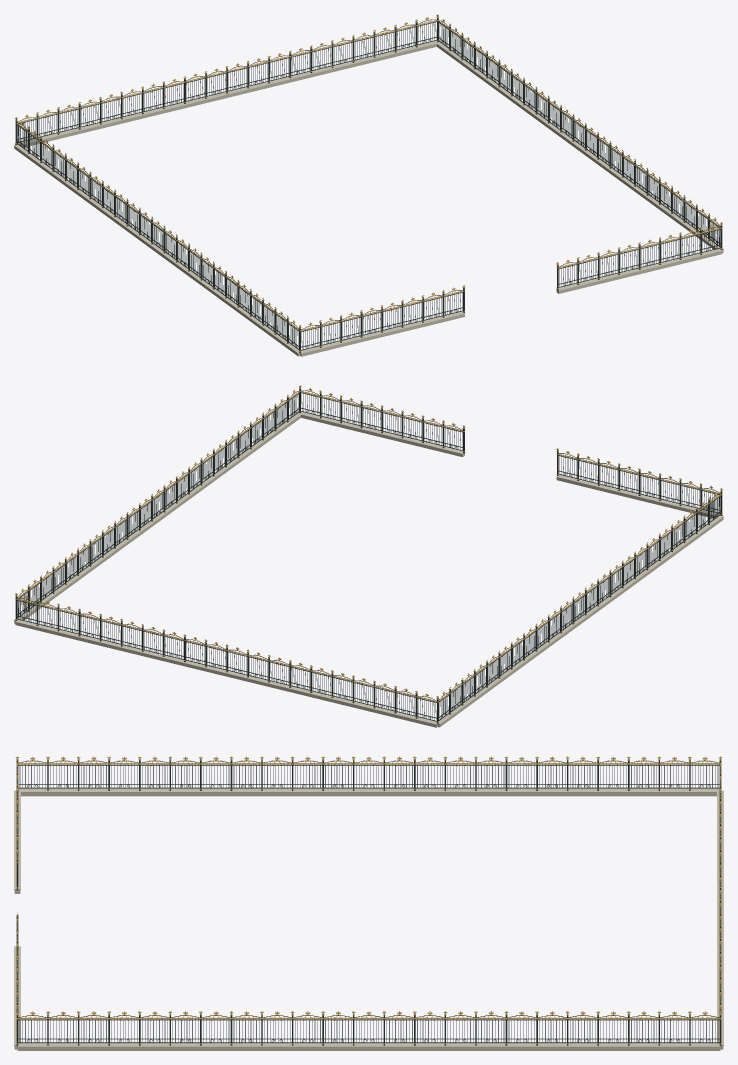
File: royalFence.glb
3 views of the same model, one above another, from view 1: azimuth 30°, elevation 25°; view 2: azimuth 150°, elevation 25°; view 3: azimuth 270°, elevation 25° (orthographic). The views are drawn at different scales.
Visible parts, largest first — view 1: Enceinte complete - fer forge et couronnements dores.002; view 2: Enceinte complete - fer forge et couronnements dores.002; view 3: Enceinte complete - fer forge et couronnements dores.002.
Part boxes in pixels (x1=…): Enceinte complete - fer forge et couronnements dores.002: x1=14, y1=14, x2=723, y2=356; Enceinte complete - fer forge et couronnements dores.002: x1=14, y1=385, x2=723, y2=727; Enceinte complete - fer forge et couronnements dores.002: x1=14, y1=756, x2=723, y2=1050.
Size of the model in its own units: 60.7 by 4.27 by 70.7.
